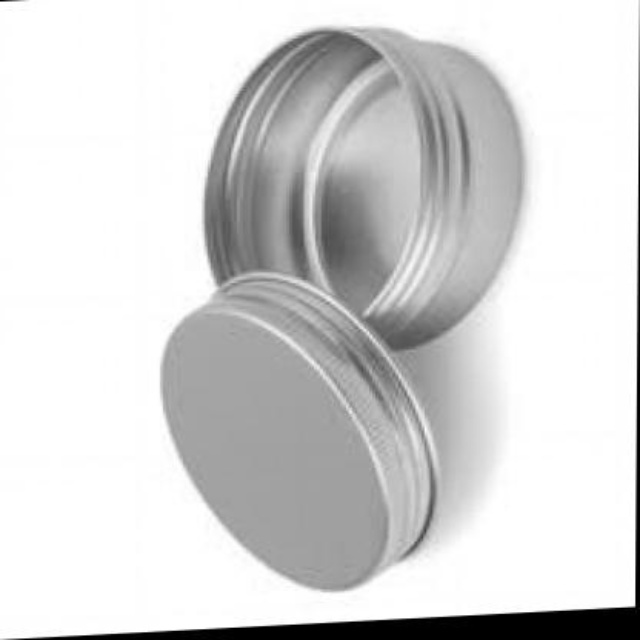trash: (162, 28, 522, 588), (205, 28, 520, 346), (162, 272, 435, 588)
